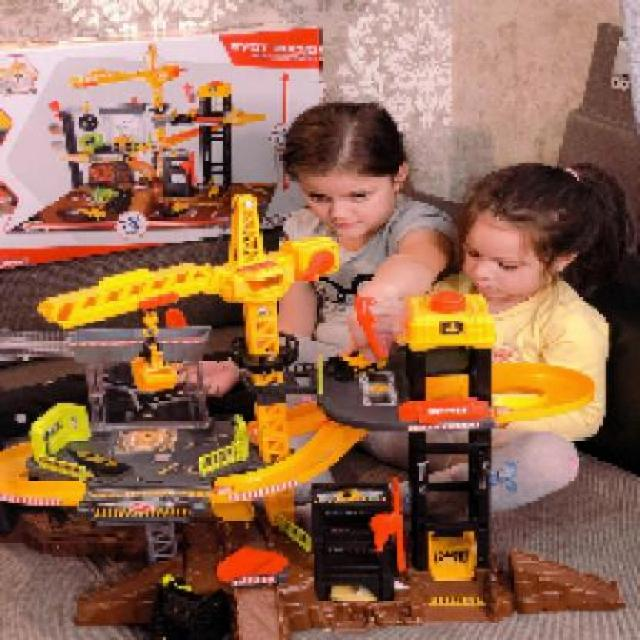child: (358, 160, 633, 520), (276, 98, 461, 336)
